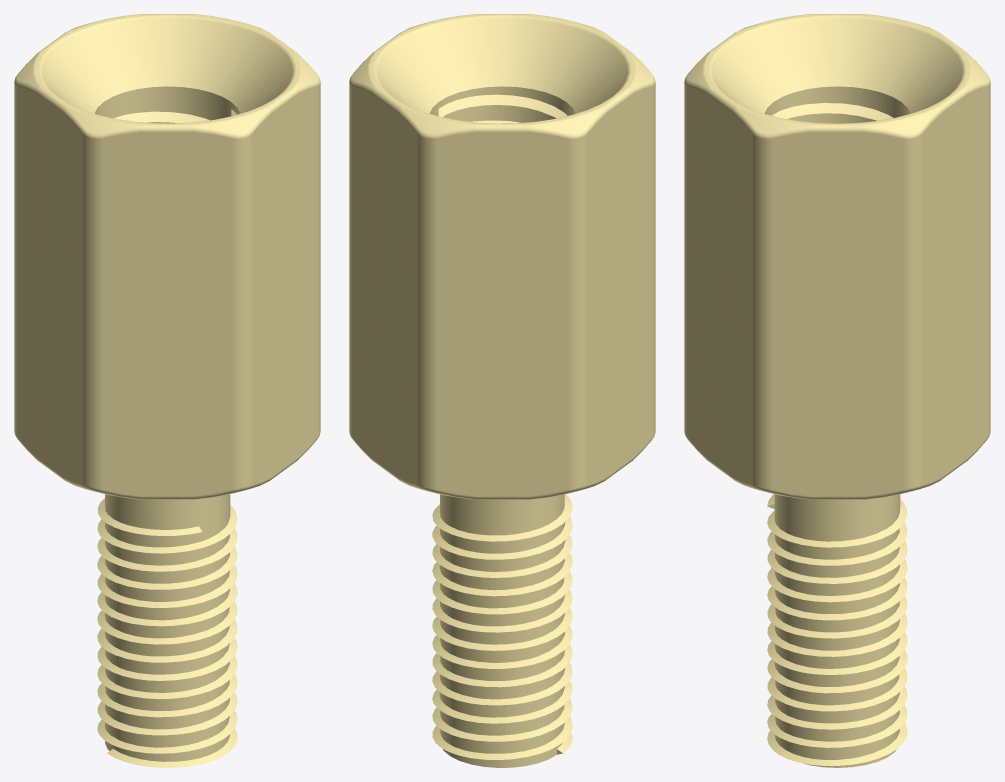
The model's file is spacer_standoff_M2.5_F-M_copper_6mm.glb.
3 views of the same model, side by side, from view 1: azimuth 30°, elevation 25°; view 2: azimuth 150°, elevation 25°; view 3: azimuth 270°, elevation 25° (orthographic).
Visible parts, largest first — view 1: Solid1; view 2: Solid1; view 3: Solid1.
Part boxes in pixels (<box>): Solid1: <box>14,14,320,767</box>; Solid1: <box>349,14,655,767</box>; Solid1: <box>684,14,990,767</box>.
Size of the model in its own units: 0.0046 by 0.0125 by 0.00519.
